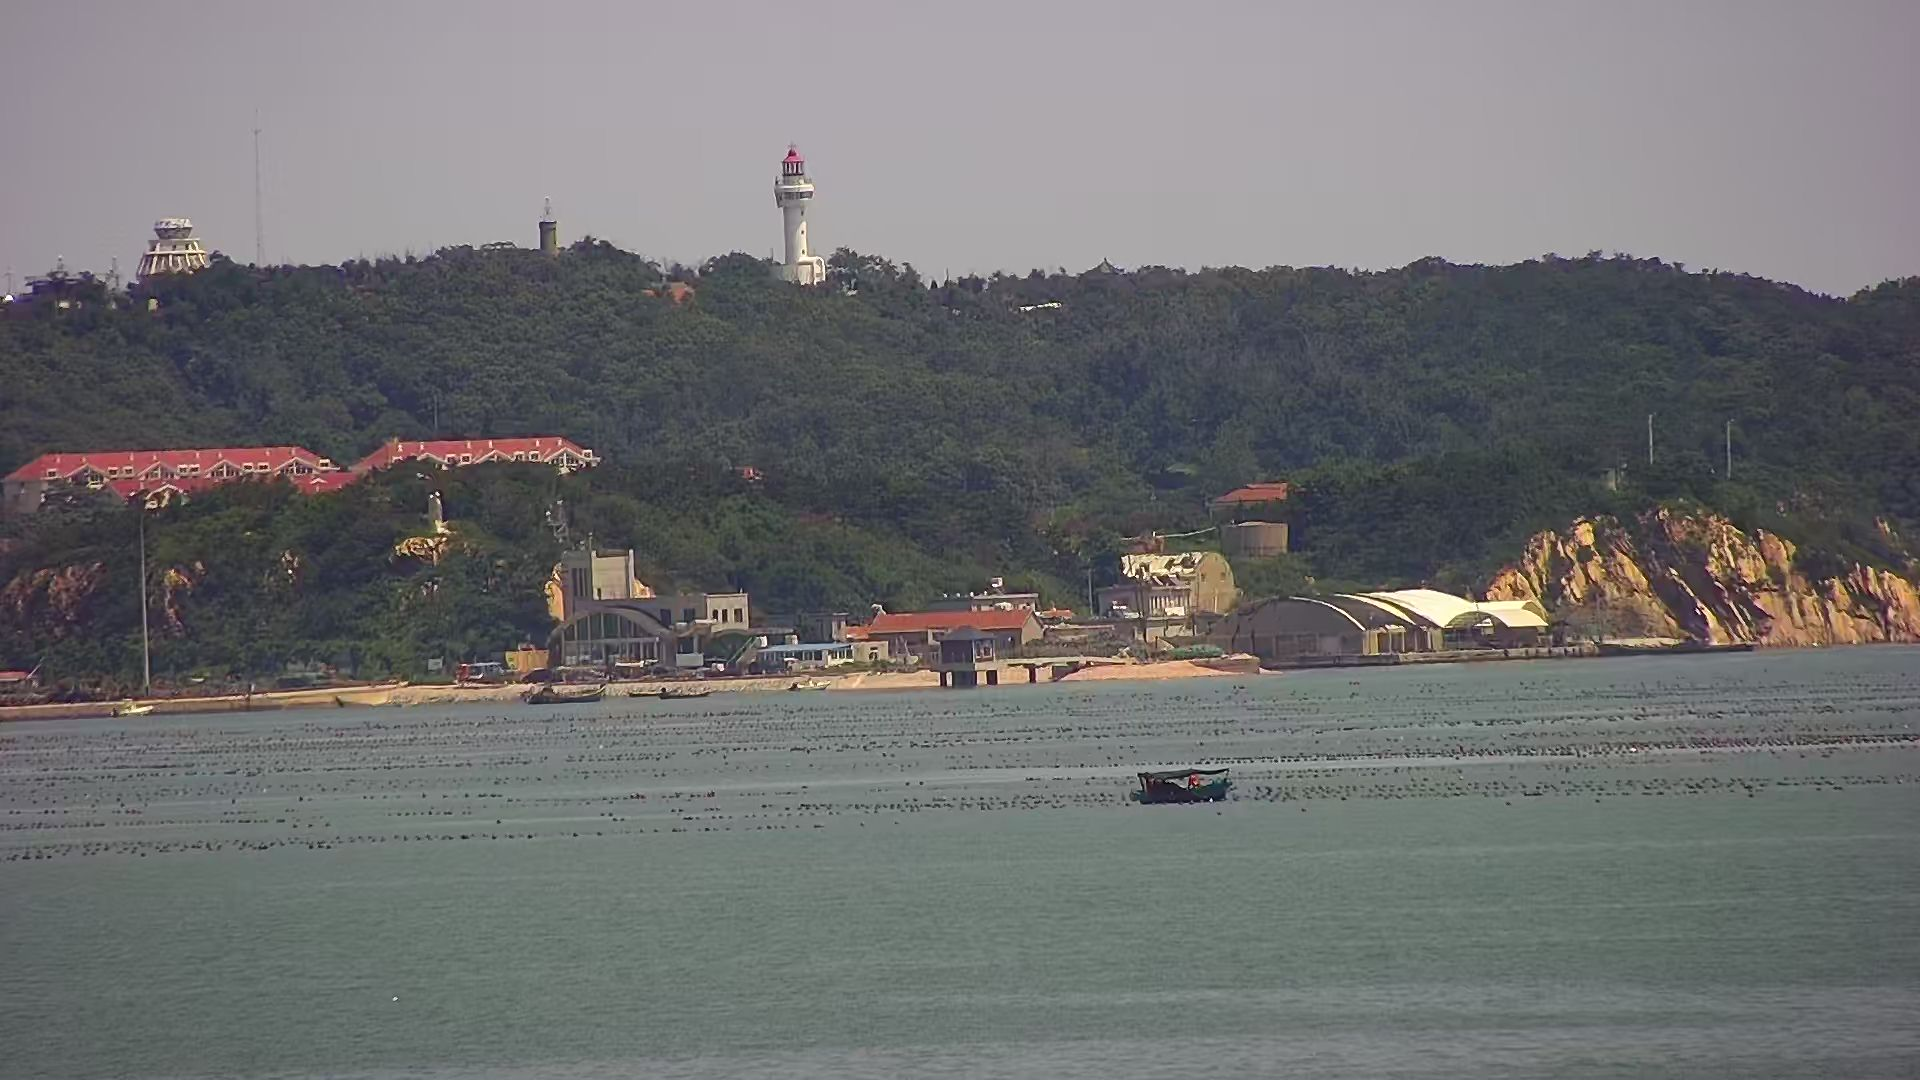boat: (1131, 764, 1234, 812)
